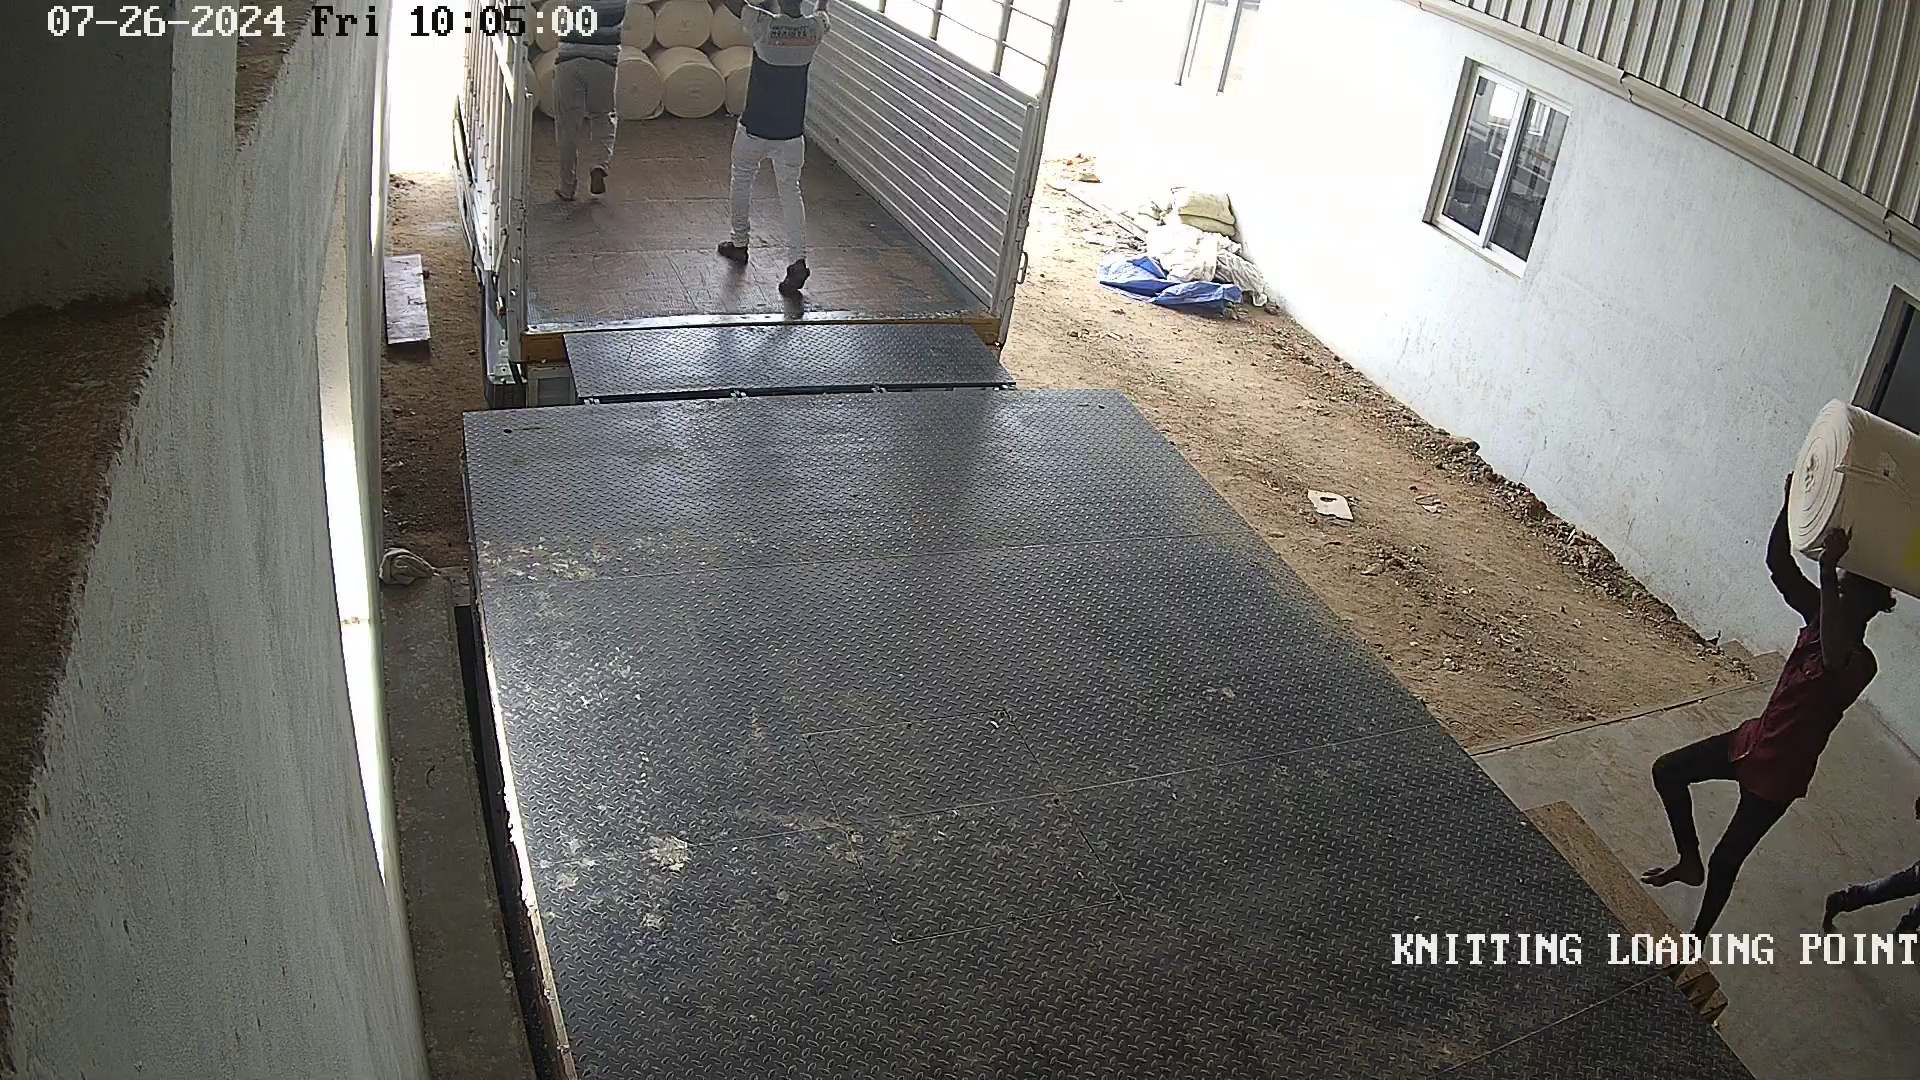bag: (1778, 394, 1920, 608)
